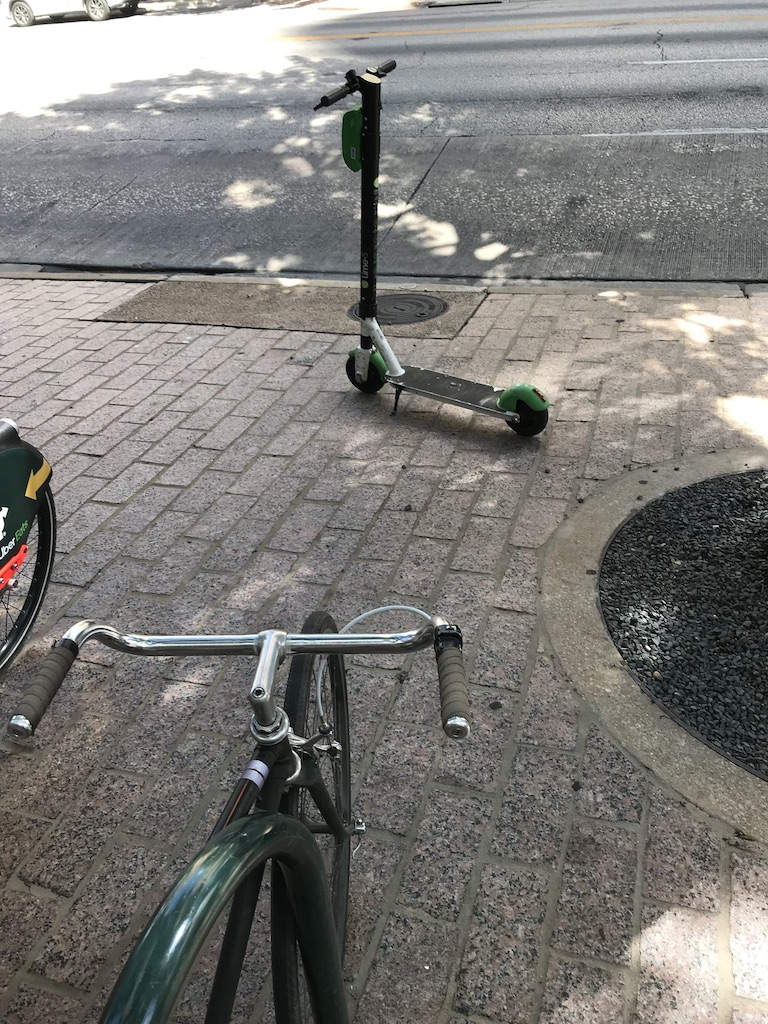scooter: (313, 57, 551, 438)
